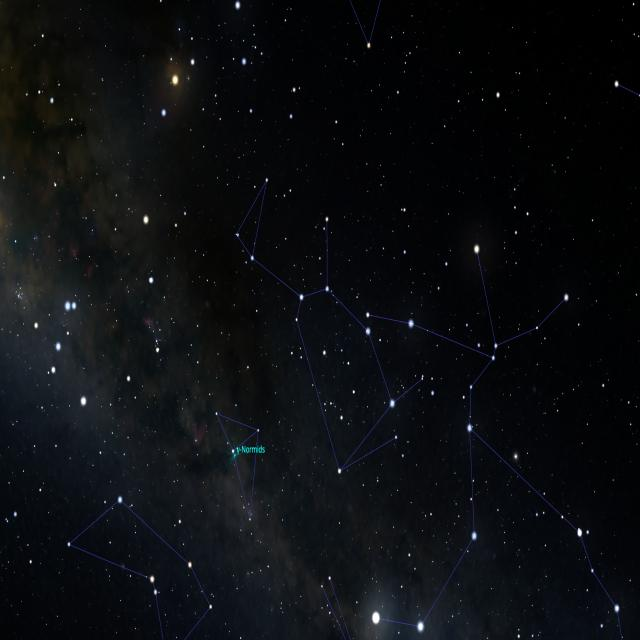Lupus: (234, 170, 426, 482)
